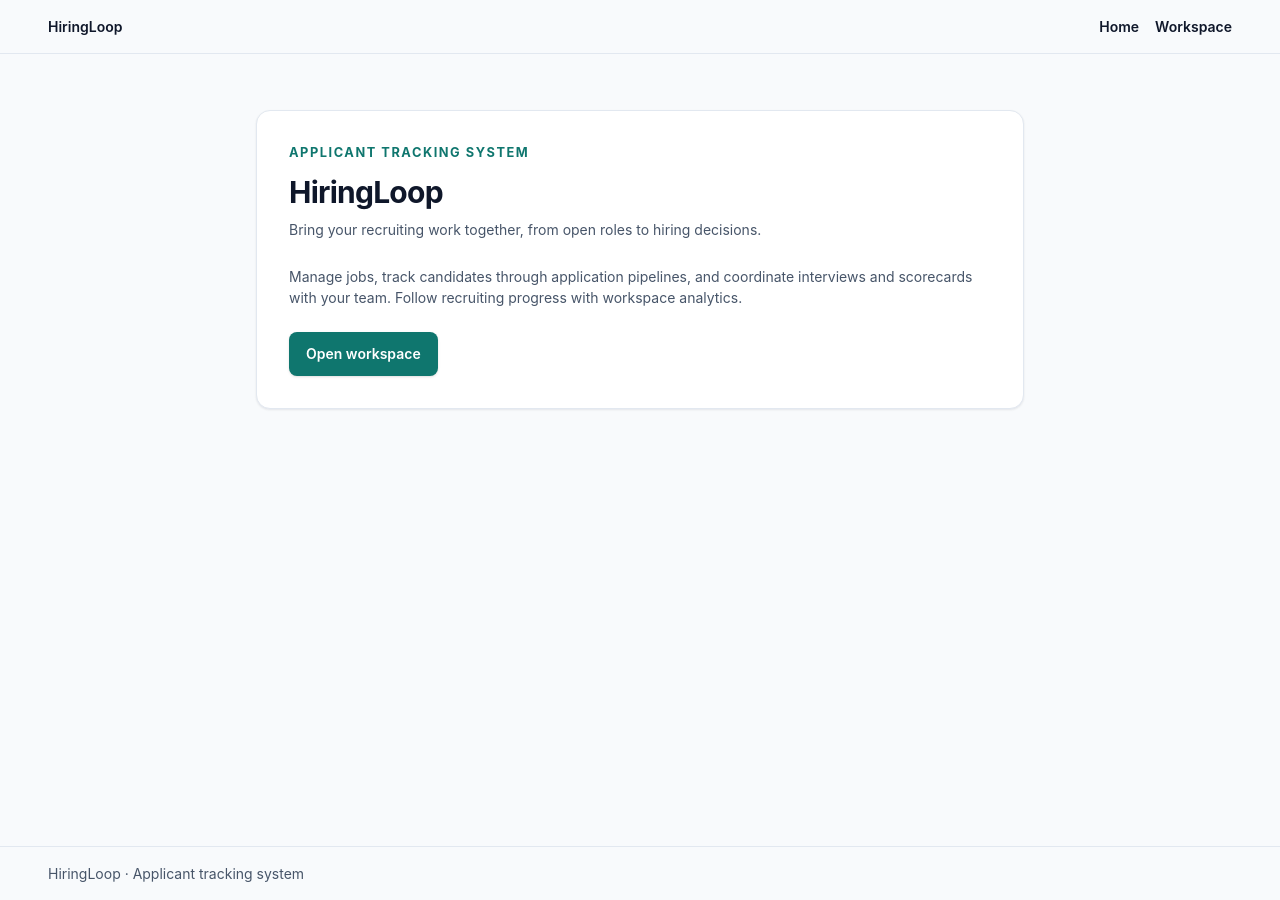
public landing and recovery › offers authenticated entry without exposing cached tenant or account data
What coordinates should you click on to do the following:
click the link "Open workspace"
I would click on:
 (363, 354)
Its box is [289, 332, 438, 376].
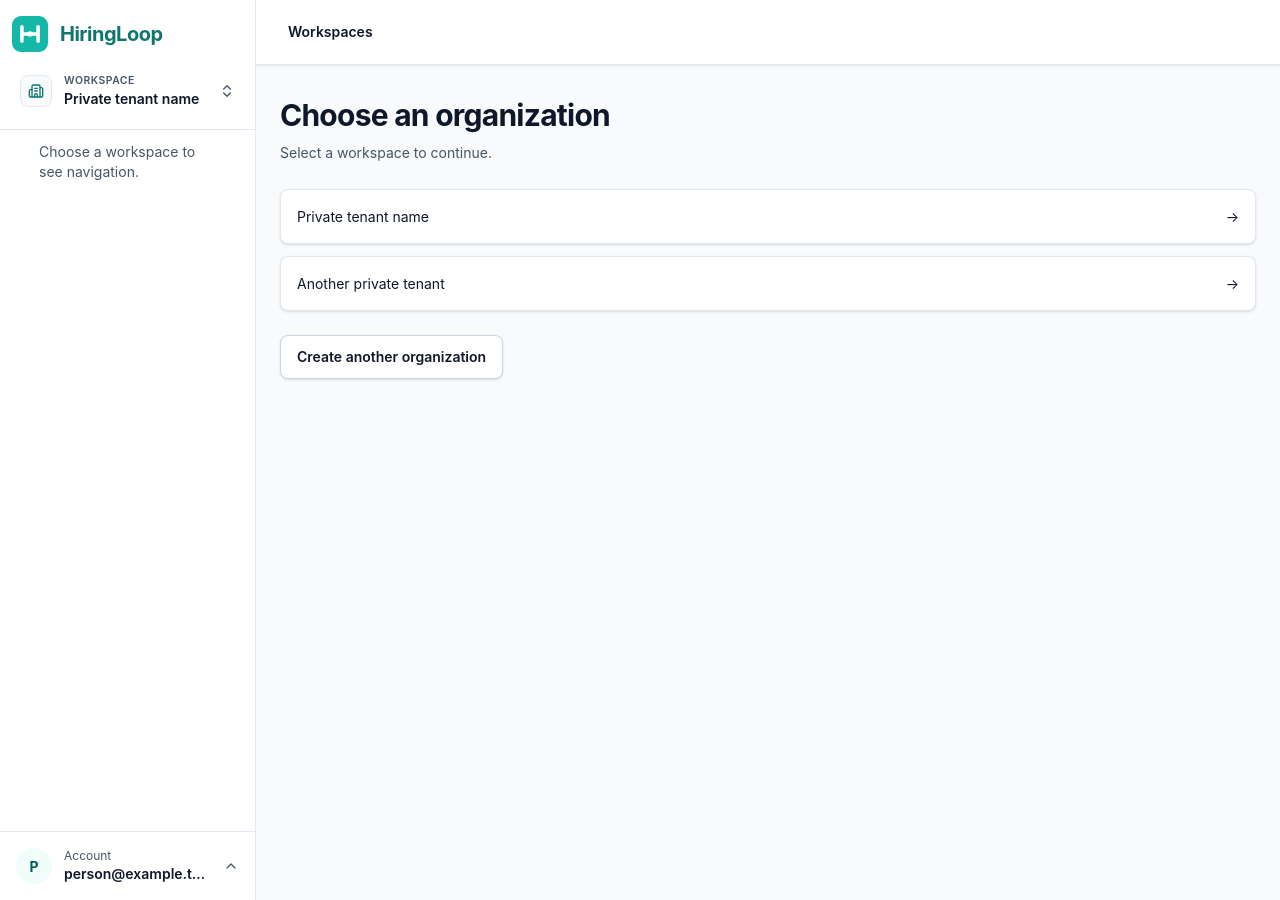
Expected: the heading "Choose an organization" is shown, [280, 97, 610, 133]
